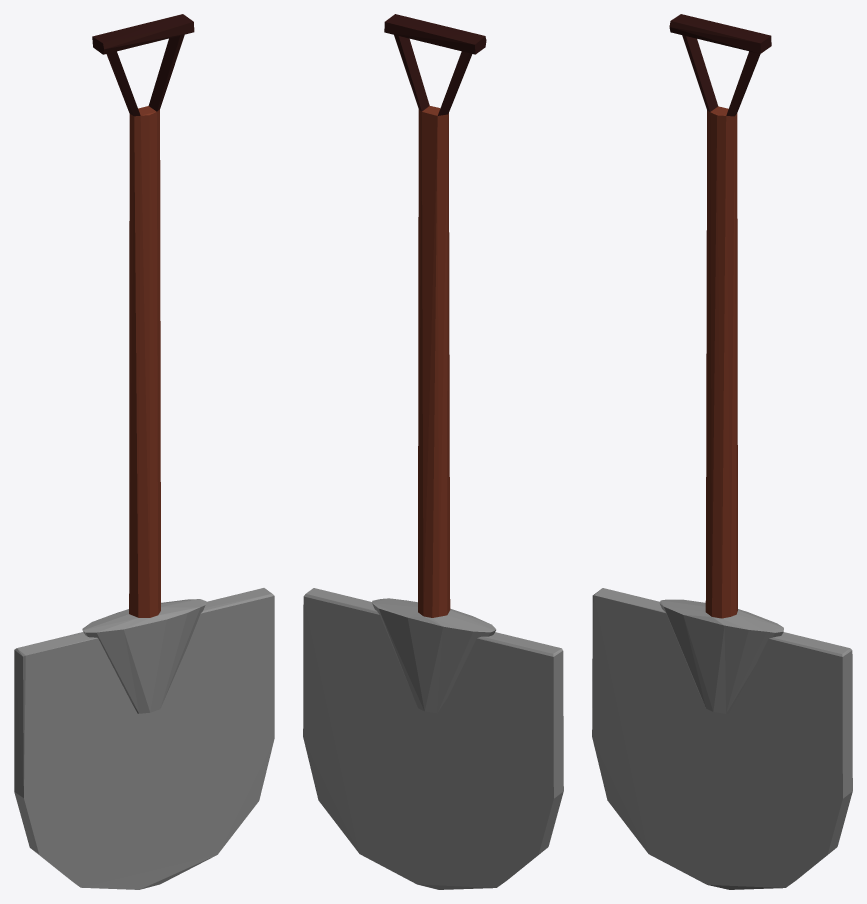
Rendered from Shovel.fbx.
The picture shows the model from 3 angles, left to right: view 1: azimuth 30°, elevation 25°; view 2: azimuth 150°, elevation 25°; view 3: azimuth 330°, elevation 25°; orthographic projection.
Visible parts, largest first — view 1: Shovel; view 2: Shovel; view 3: Shovel.
Part boxes in pixels (x1,y1,x2,y2): Shovel: (14,14,274,889); Shovel: (303,14,563,889); Shovel: (592,14,852,889).
Size of the model in its own units: 0.2789 by 0.9086 by 0.0373.
